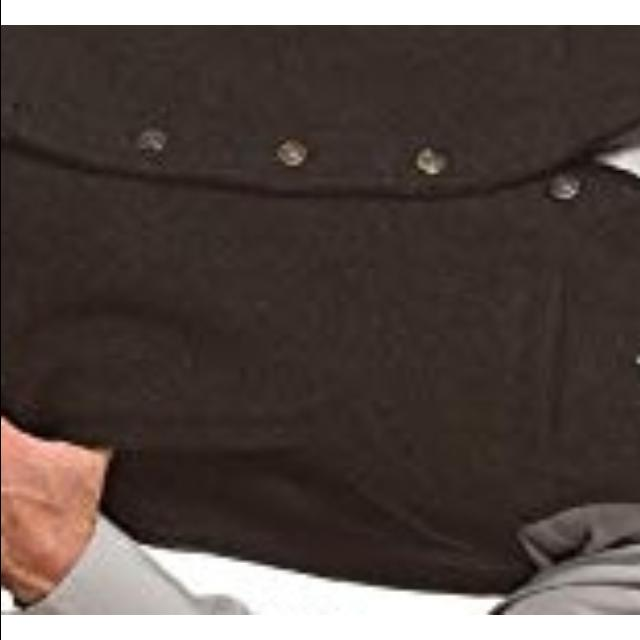wool: (0, 25, 640, 615)
